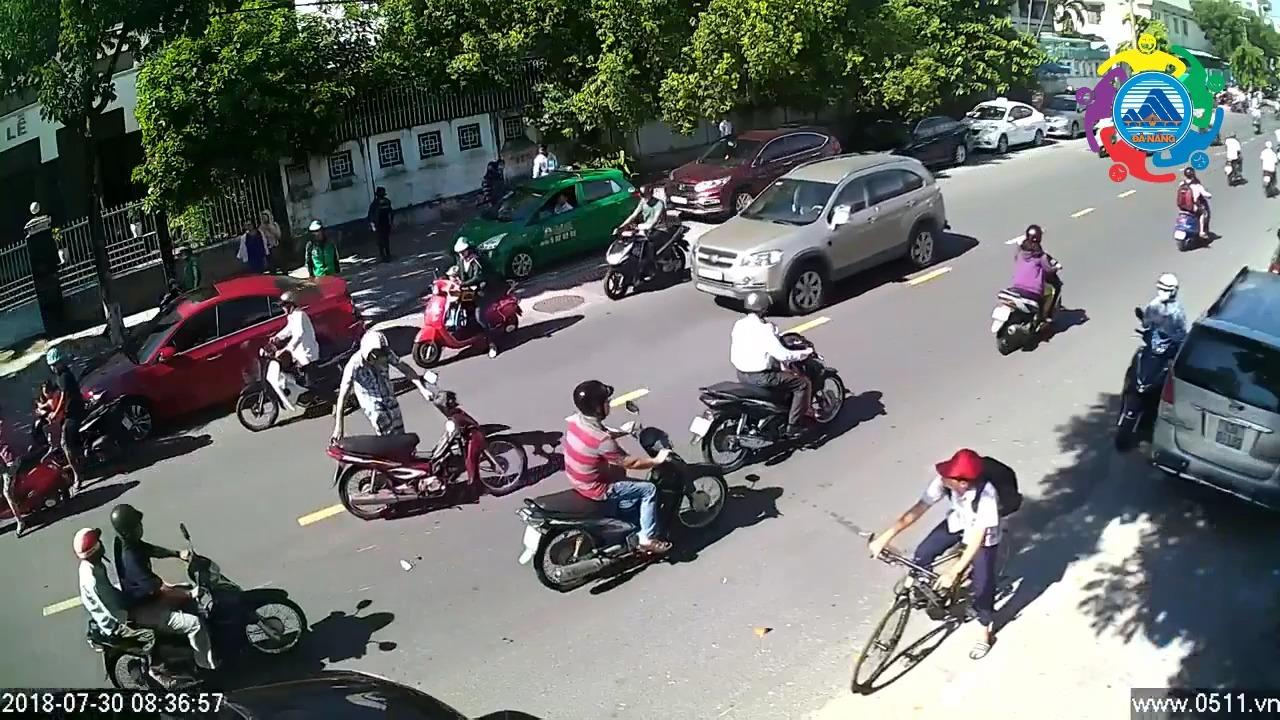bicycle: (837, 442, 1020, 700)
car: (71, 267, 369, 447), (689, 155, 950, 312), (1153, 266, 1280, 523), (459, 163, 645, 282), (667, 125, 845, 223), (844, 108, 974, 183), (969, 92, 1048, 157), (1044, 95, 1093, 143)
motorcycle: (514, 375, 732, 593), (71, 495, 309, 690), (329, 328, 529, 522), (688, 290, 850, 473), (411, 238, 522, 367), (1110, 271, 1186, 455), (601, 185, 689, 303), (994, 223, 1065, 357), (804, 145, 867, 238), (1170, 163, 1215, 257), (1215, 128, 1250, 185), (1259, 136, 1280, 200)
